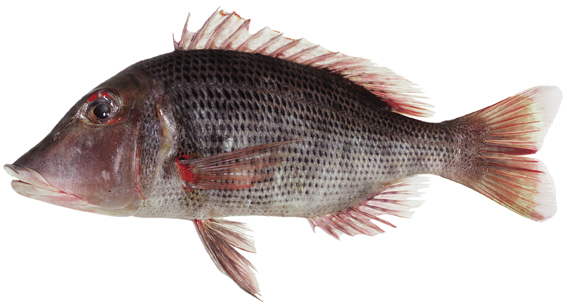fish: (3, 7, 563, 302)
